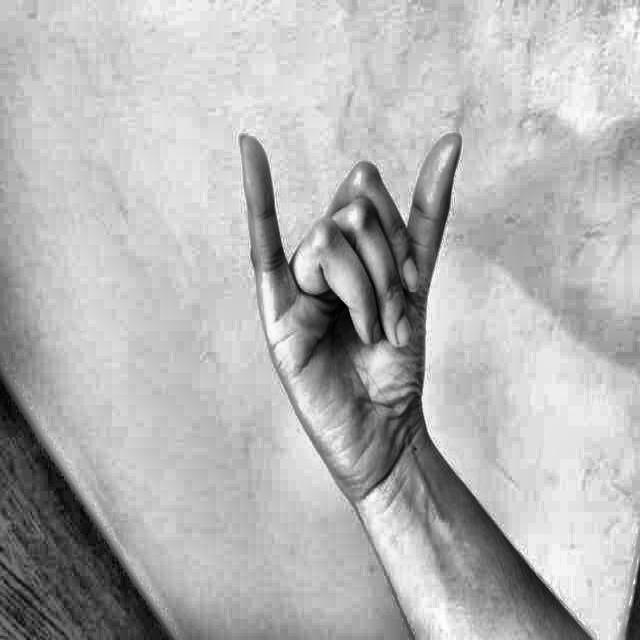Oi: (218, 92, 477, 487)
